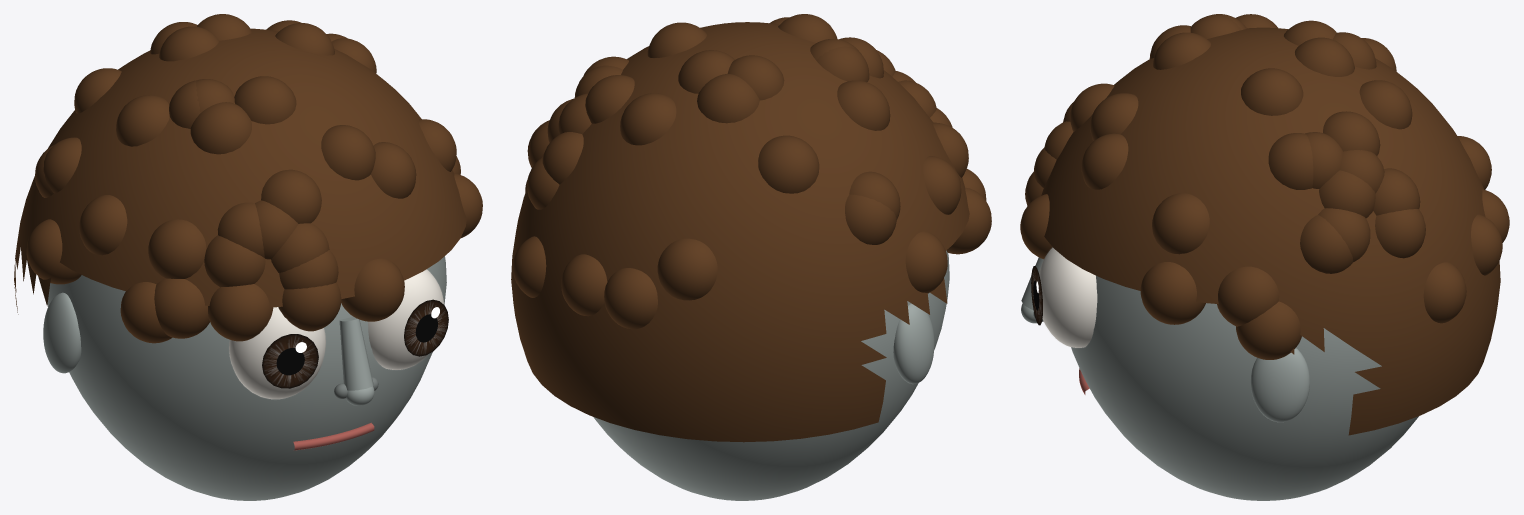
File: autres-08-boucles.glb
3 renders of one model, left to right at view 1: azimuth 30°, elevation 25°; view 2: azimuth 150°, elevation 25°; view 3: azimuth 270°, elevation 25°, orthographic.
Size of what is drawn, in the model's own units: 0.3404 by 0.3501 by 0.3456.
Materials: 10 (1 with a texture image).
